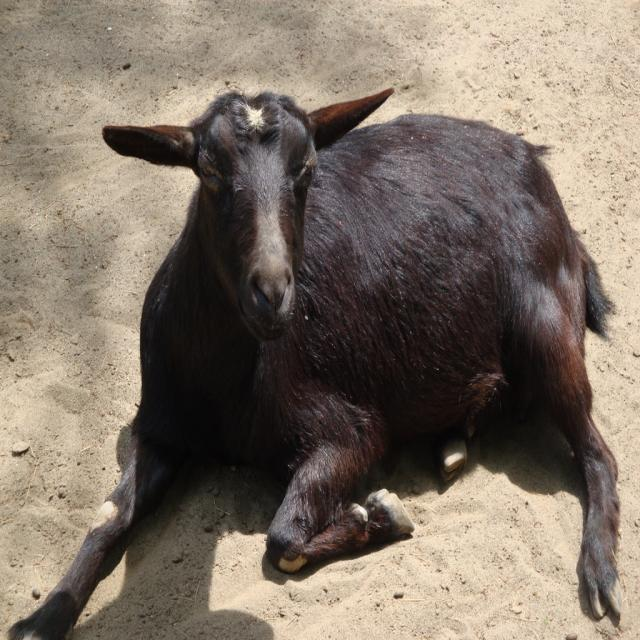Goat: (6, 88, 622, 640)
